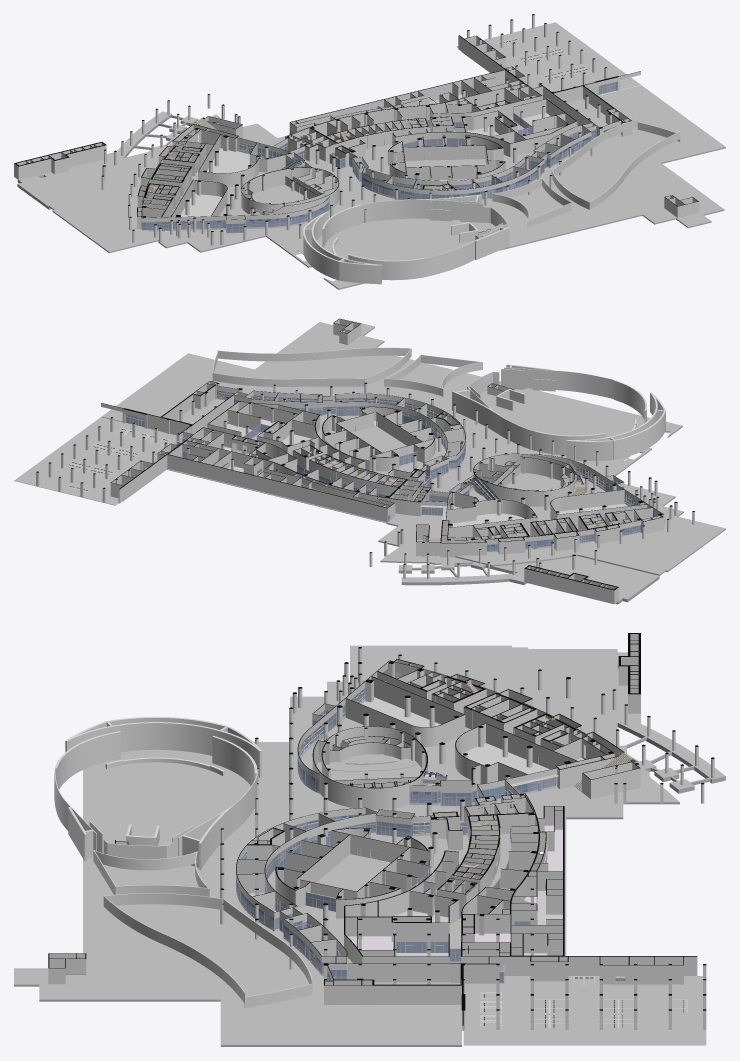
3 views of the same model, one above another, from view 1: azimuth 30°, elevation 25°; view 2: azimuth 150°, elevation 25°; view 3: azimuth 270°, elevation 25° (orthographic). The views are drawn at different scales.
Parts seen in each view (by area): view 1: A3-B1F_in_wall, A3-B1F_in_floor, 경기도의회_벽, A3-B1F_in_glass, A3-B1F_in_frame, A3-B1F_in_g_door; view 2: A3-B1F_in_wall, A3-B1F_in_floor, 경기도의회_벽, A3-B1F_in_glass, A3-B1F_in_frame, A3-B1F_in_g_door, A3-B1F_in_door, A3-B1F_in_line; view 3: A3-B1F_in_floor, A3-B1F_in_wall, 경기도의회_벽, A3-B1F_in_glass, A3-B1F_in_frame, A3-B1F_in_door, A3-B1F_in_g_door, A3-B1F_in_line.
Part boxes in pixels (x1=…): A3-B1F_in_wall: x1=14, y1=14, x2=698, y2=245; A3-B1F_in_floor: x1=17, y1=22, x2=725, y2=289; 경기도의회_벽: x1=303, y1=119, x2=680, y2=284; A3-B1F_in_glass: x1=141, y1=81, x2=618, y2=231; A3-B1F_in_frame: x1=141, y1=82, x2=616, y2=233; A3-B1F_in_g_door: x1=163, y1=86, x2=612, y2=233; A3-B1F_in_wall: x1=36, y1=318, x2=694, y2=604; A3-B1F_in_floor: x1=14, y1=320, x2=725, y2=604; 경기도의회_벽: x1=212, y1=347, x2=665, y2=460; A3-B1F_in_glass: x1=125, y1=390, x2=664, y2=551; A3-B1F_in_frame: x1=125, y1=390, x2=664, y2=551; A3-B1F_in_g_door: x1=130, y1=393, x2=612, y2=549; A3-B1F_in_door: x1=139, y1=337, x2=640, y2=555; A3-B1F_in_line: x1=64, y1=428, x2=171, y2=491; A3-B1F_in_floor: x1=14, y1=645, x2=725, y2=1046; A3-B1F_in_wall: x1=48, y1=633, x2=714, y2=1030; 경기도의회_벽: x1=54, y1=716, x2=312, y2=1007; A3-B1F_in_glass: x1=236, y1=669, x2=556, y2=982; A3-B1F_in_frame: x1=236, y1=668, x2=558, y2=983; A3-B1F_in_door: x1=317, y1=693, x2=680, y2=1004; A3-B1F_in_g_door: x1=238, y1=715, x2=554, y2=967; A3-B1F_in_line: x1=480, y1=976, x2=687, y2=1028.
Size of the model in its own units: 229 by 9.81 by 174.
